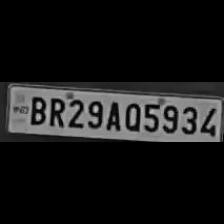2: (66, 96, 84, 128)
3: (178, 102, 198, 136)
4: (198, 104, 218, 136)
5: (140, 99, 158, 133)
9: (84, 97, 103, 130), (160, 102, 178, 134)
A: (104, 98, 122, 132)
B: (27, 94, 46, 126)
Q: (122, 100, 140, 132)
R: (46, 94, 64, 128)
